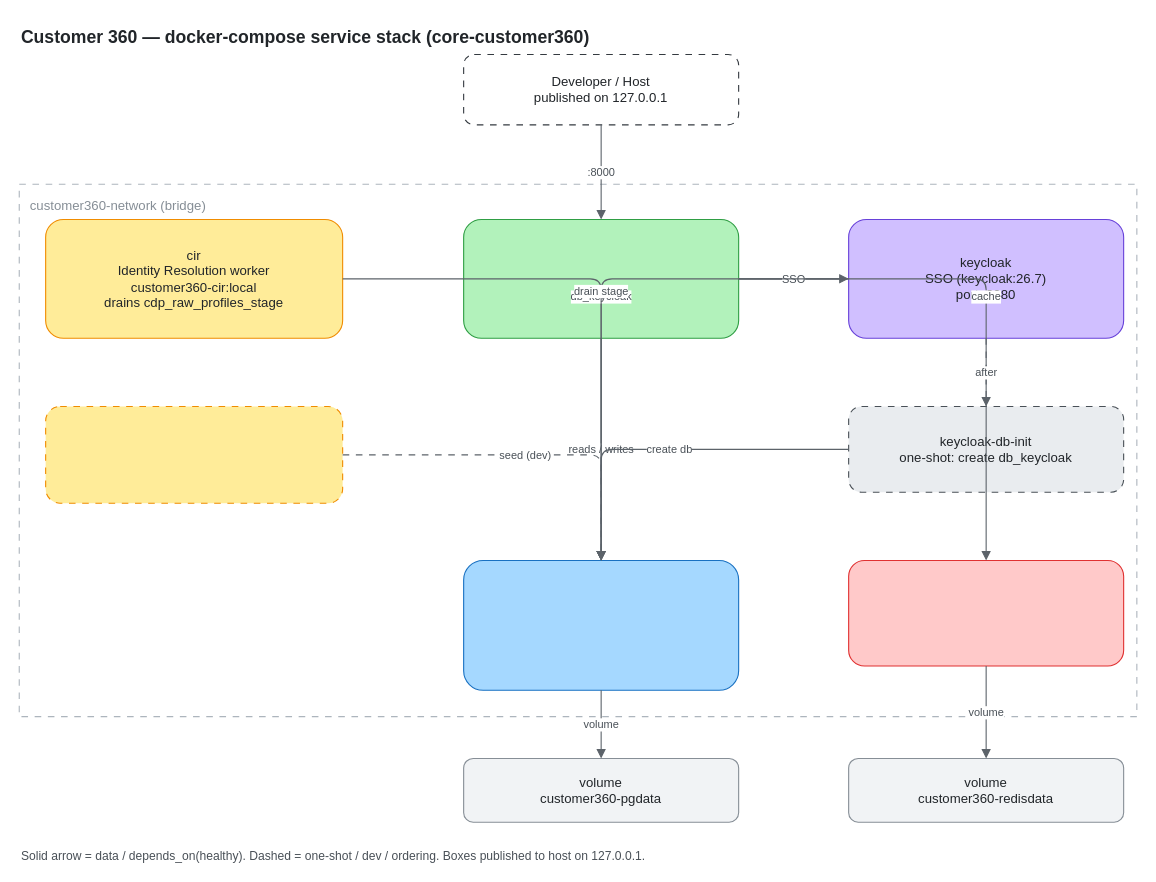
The diagram is 1156 pixels wide and 882 high, and some of its shapes have lost their labels. Here are the shapes that lost their labels. From the top down, the box of each, then its label:
(463, 218, 739, 338): api Customer 360 API (FastAPI) customer360-api:local port :8000
(45, 405, 343, 503): cir-demo-seed (dev profile) one-shot demo data seeder
(463, 559, 739, 690): postgres PostgreSQL 16 PostGIS · pgvector · contrib port :5432
(848, 559, 1124, 666): redis Redis 8 (API cache) port :6379
